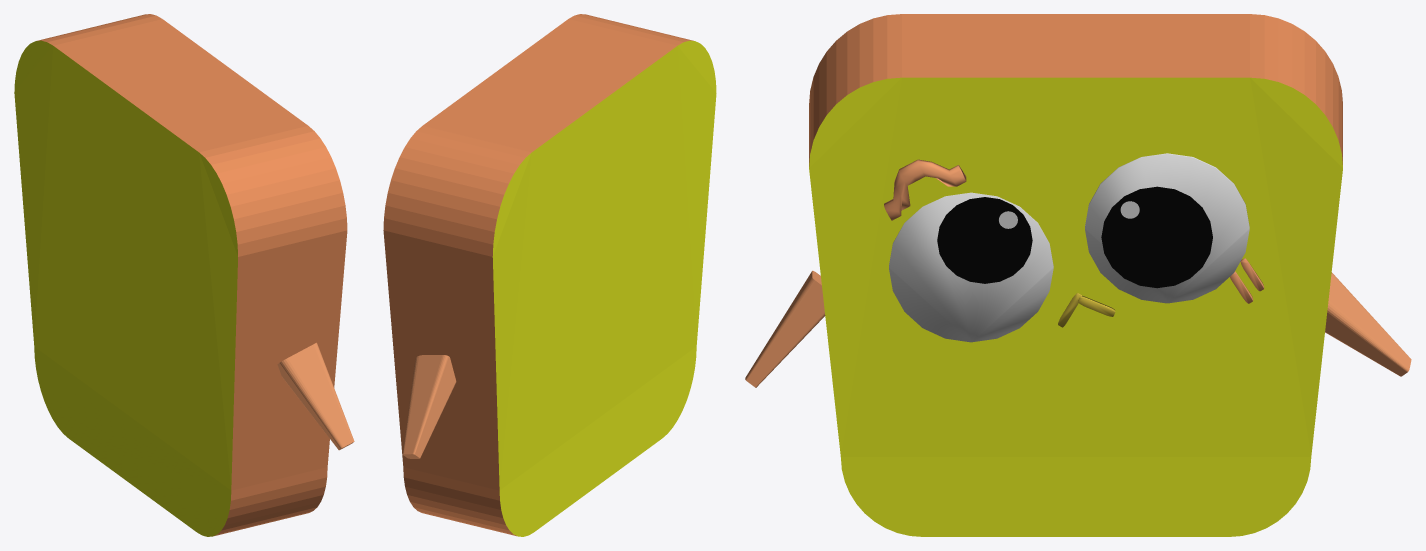
The model's file is toast_bread frency.fbx.
3 renders of one model, left to right at view 1: azimuth 30°, elevation 25°; view 2: azimuth 150°, elevation 25°; view 3: azimuth 270°, elevation 25°, orthographic. The views are drawn at different scales.
Visible parts, largest first — view 1: Cube.001; view 2: Cube.001; view 3: Cube.001.
Part boxes in pixels (x1,y1,x2,y2): Cube.001: [14, 14, 354, 536]; Cube.001: [383, 14, 716, 536]; Cube.001: [745, 14, 1411, 536].
Bounding box in the file's own units: 22.49 × 71.86 × 93.67.
